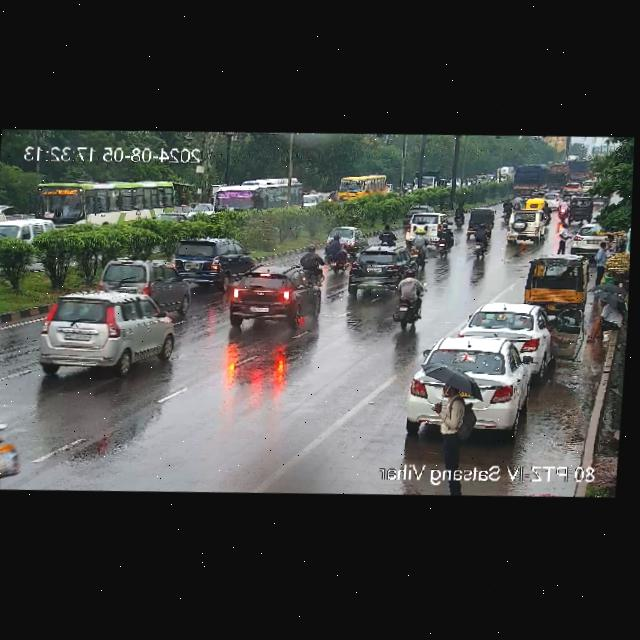bus: (29, 177, 180, 235), (212, 176, 305, 217), (328, 171, 394, 202)
car: (410, 337, 542, 443), (29, 292, 167, 379), (458, 301, 556, 364), (93, 259, 190, 311), (229, 266, 320, 320), (522, 253, 588, 313), (169, 236, 248, 285), (341, 244, 422, 288), (500, 208, 548, 245), (0, 219, 49, 250), (400, 211, 448, 236), (571, 222, 600, 257), (464, 208, 495, 236), (401, 200, 429, 224), (327, 225, 360, 245), (521, 196, 545, 211)
motorcycle: (387, 274, 430, 333), (322, 235, 353, 272), (427, 225, 454, 258), (410, 231, 436, 262), (369, 229, 403, 249), (469, 226, 490, 258), (299, 245, 321, 275), (453, 201, 465, 228), (558, 197, 570, 221), (500, 198, 513, 220), (511, 192, 523, 208)
person: (421, 379, 477, 458), (589, 299, 621, 342), (593, 240, 607, 281), (555, 222, 569, 252), (608, 235, 616, 254)
truck: (506, 162, 571, 192)
